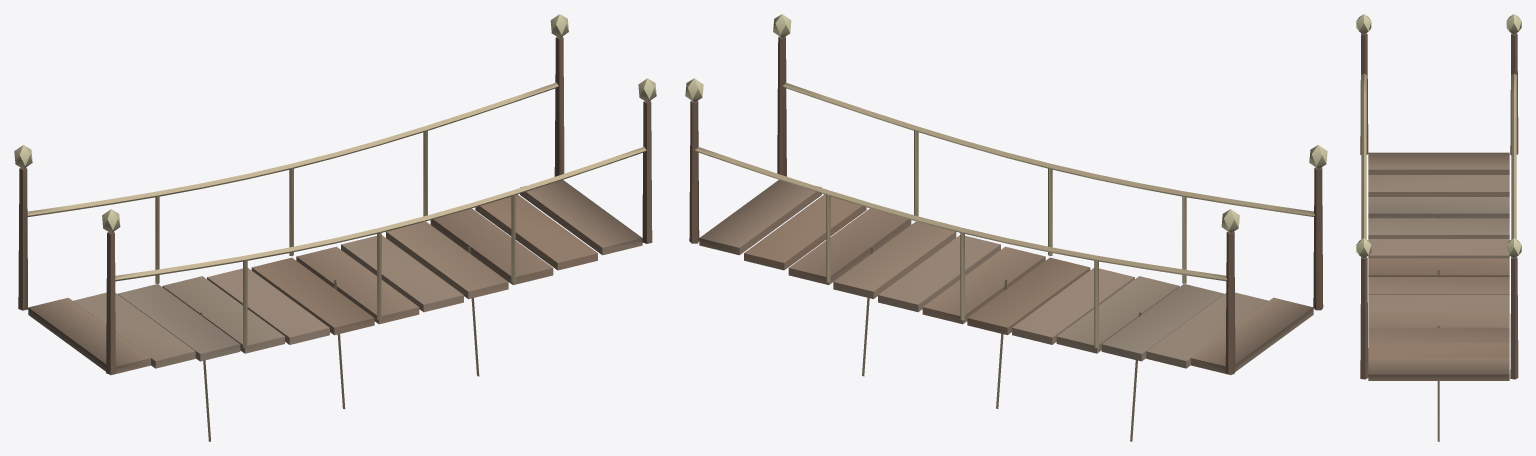
The model's file is hanging_walkway.glb.
The picture shows the model from 3 angles, left to right: view 1: azimuth 30°, elevation 25°; view 2: azimuth 150°, elevation 25°; view 3: azimuth 270°, elevation 25°; orthographic projection. The views are drawn at different scales.
Visible parts, largest first — view 1: hanging_walkway; view 2: hanging_walkway; view 3: hanging_walkway.
Part boxes in pixels (x1=…): hanging_walkway: x1=14, y1=14, x2=656, y2=441; hanging_walkway: x1=685, y1=14, x2=1327, y2=441; hanging_walkway: x1=1356, y1=14, x2=1521, y2=441.
Bounding box in the file's own units: 6.18 × 3.2 × 1.87.
